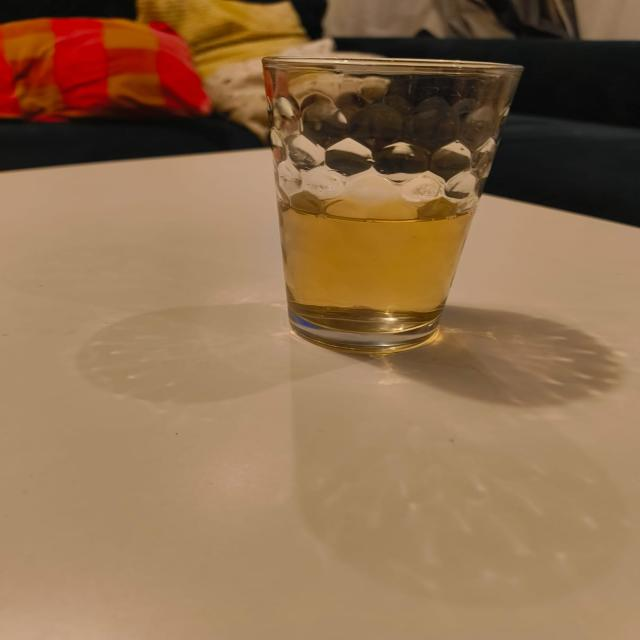filled g2: (261, 56, 526, 357)
liquid: (275, 194, 484, 336)
